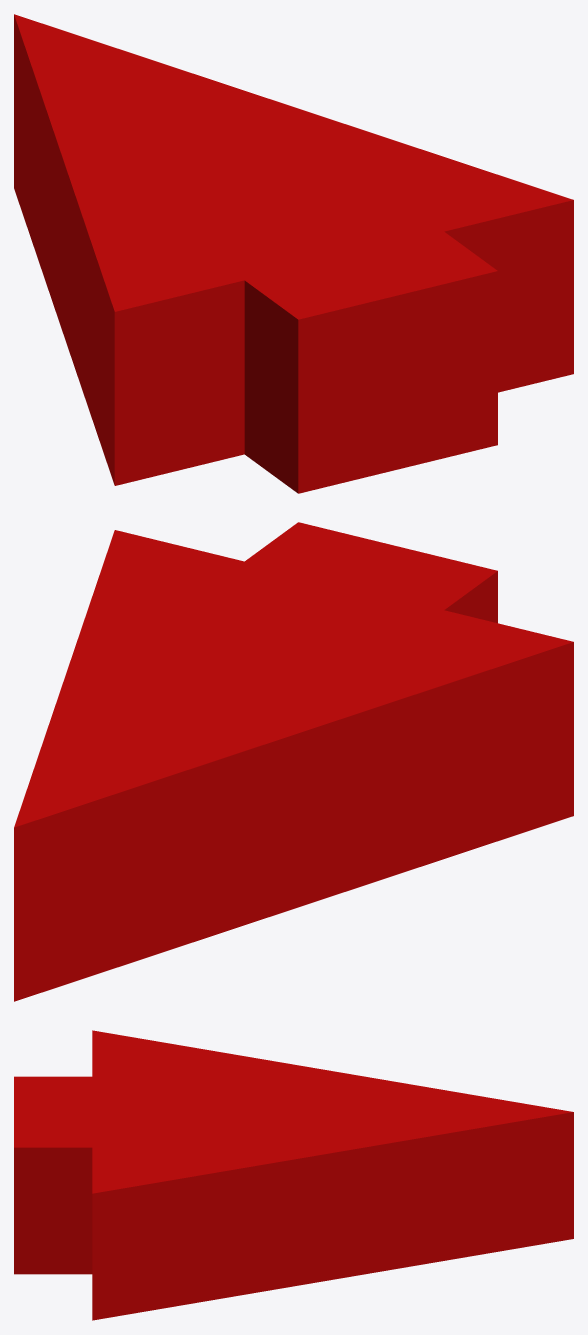
Rendered from Arrow.fbx.
The picture shows the model from 3 angles, top to bottom: view 1: azimuth 30°, elevation 25°; view 2: azimuth 150°, elevation 25°; view 3: azimuth 270°, elevation 25°; orthographic projection. The views are drawn at different scales.
Parts seen in each view (by area): view 1: Empty_Mesh; view 2: Empty_Mesh; view 3: Empty_Mesh.
Part boxes in pixels (x1,y1,x2,y2): Empty_Mesh: (14, 14, 573, 493); Empty_Mesh: (14, 522, 573, 1001); Empty_Mesh: (14, 1030, 573, 1320).
Bounding box in the file's own units: 69 × 25 × 100.
